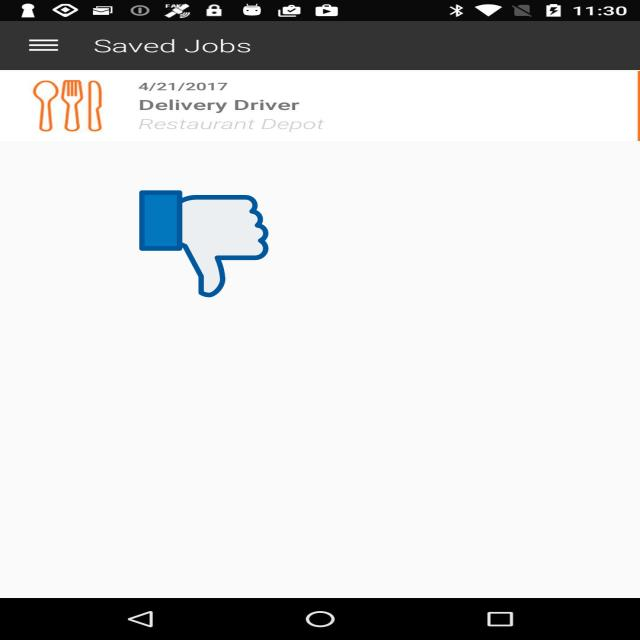obstruction: (140, 188, 268, 300)
